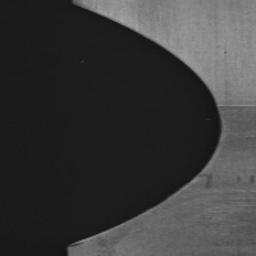Crescent gap: (69, 2, 222, 247)
